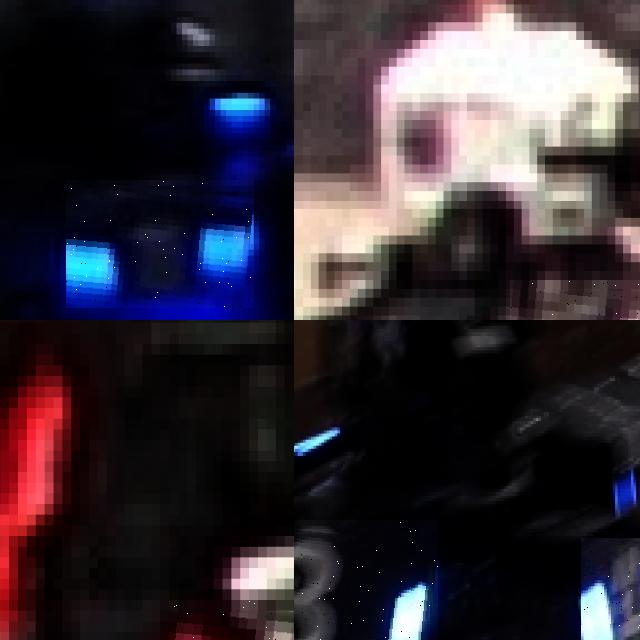B1: (66, 180, 254, 308)
B3: (294, 519, 438, 640)
B4: (581, 538, 640, 640)
